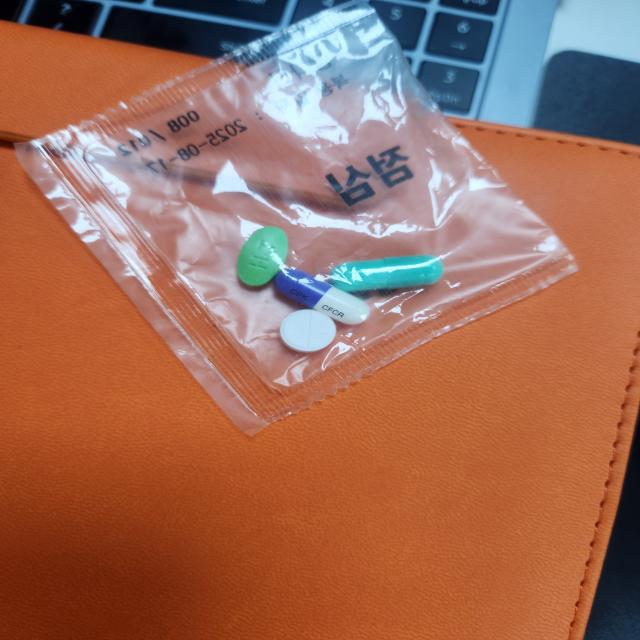러키펜정: (280, 310, 338, 354)
씨엠지세파클러캡슐: (273, 267, 370, 327)
에르도캡슐: (329, 257, 445, 295)
휴티렌정: (234, 227, 289, 294)
